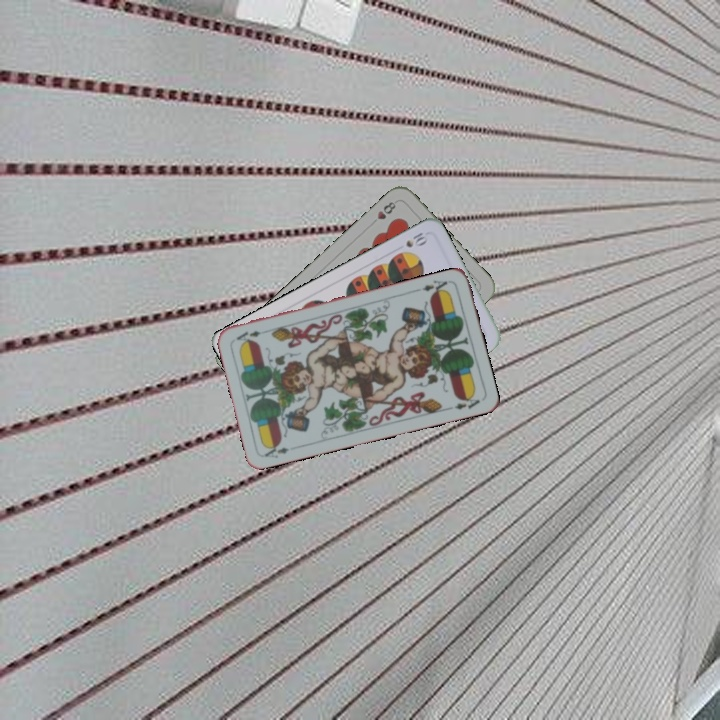EA: (418, 276, 453, 297), (260, 440, 291, 461)
H8: (373, 198, 398, 222)
S10: (402, 227, 430, 250)
